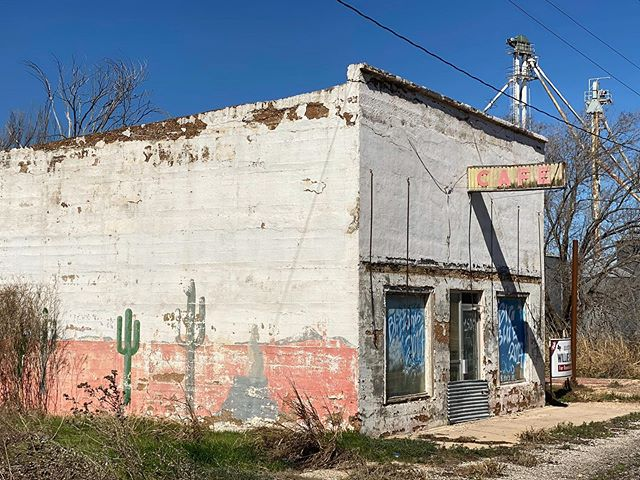building: (1, 86, 552, 411)
sign: (462, 161, 566, 192)
sky: (5, 1, 512, 130)
